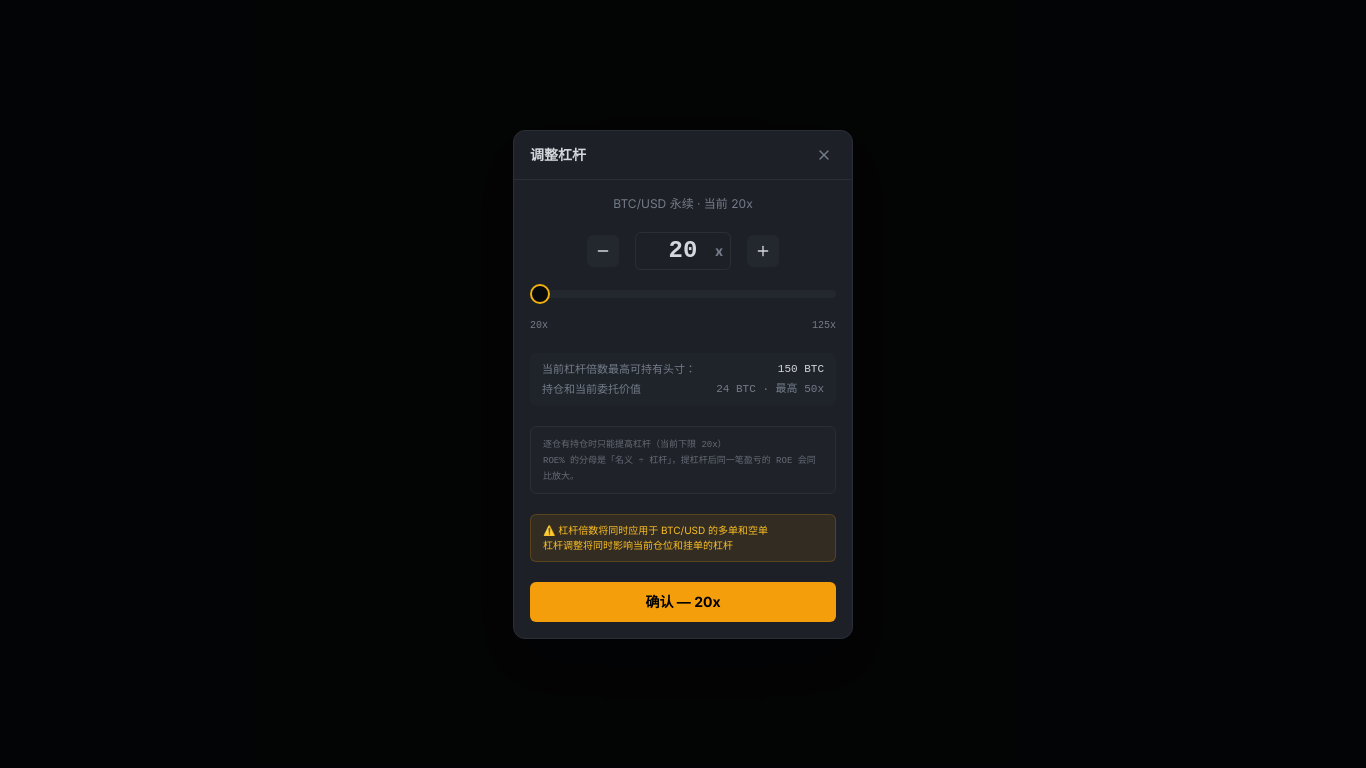
Test: 【复核 r3】已挂的带戳触发单：调到这个杠杆后触发时会被拒——确认前提醒，不拦 › 提到 50x：确认前摆出「杠杆调到 50x 后，已挂的做空条件单 90,000.00 触发时…」，确认键照常可点；回到 20x 就没有
The image size is (1366, 768).
Later steps or results of the test are not shown.
Replace the text in the number field with test id "leverage-input" with "50": (683, 250) [635, 232, 731, 270]
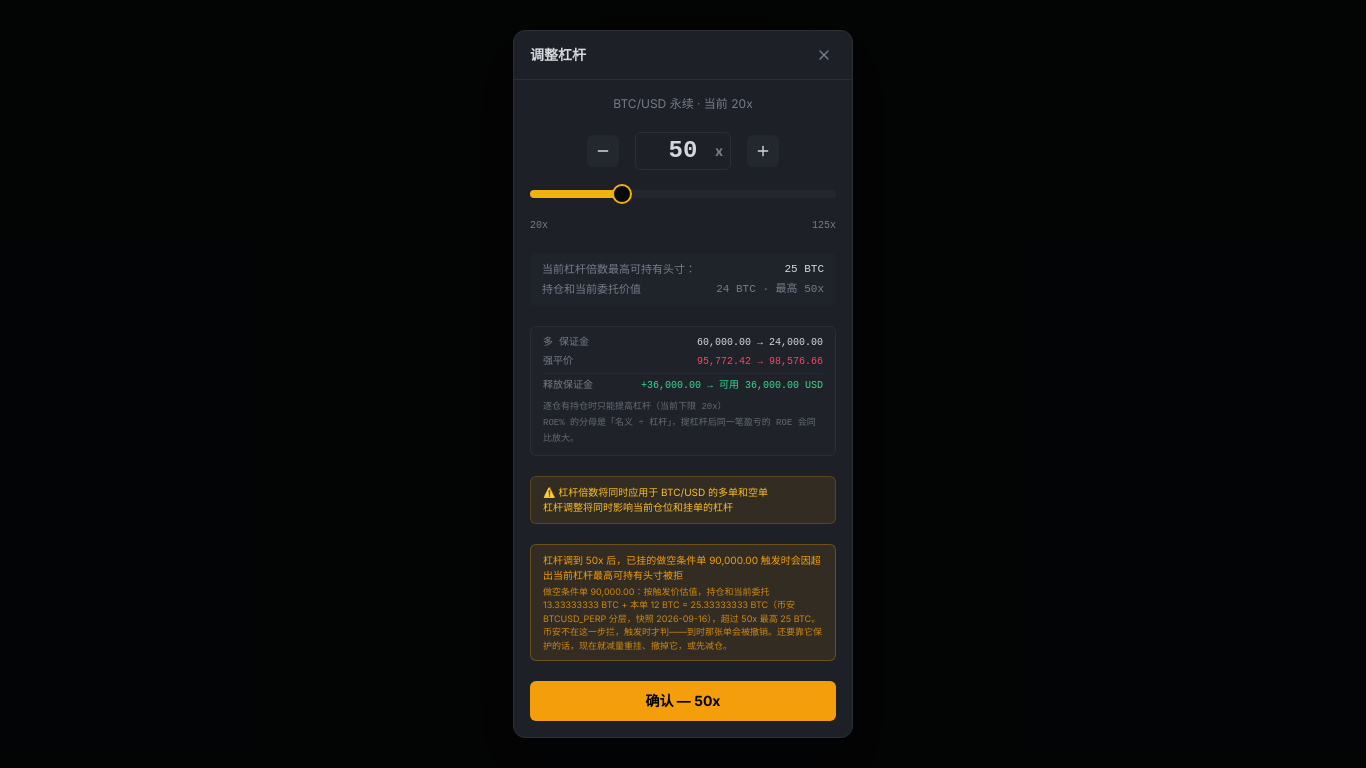
Expected: the button with test id "leverage-confirm" is enabled, [530, 681, 836, 721]
Expected: the element with test id "leverage-trigger-risk" shows "杠杆调到 50x 后，已挂的做空条件单 90,000.00 触发时会因超出当前杠杆最高可持有头寸被拒", [543, 554, 821, 581]
Expected: the element with test id "leverage-trigger-risk" shows "超过 50x 最高 25 BTC", [543, 586, 822, 651]
